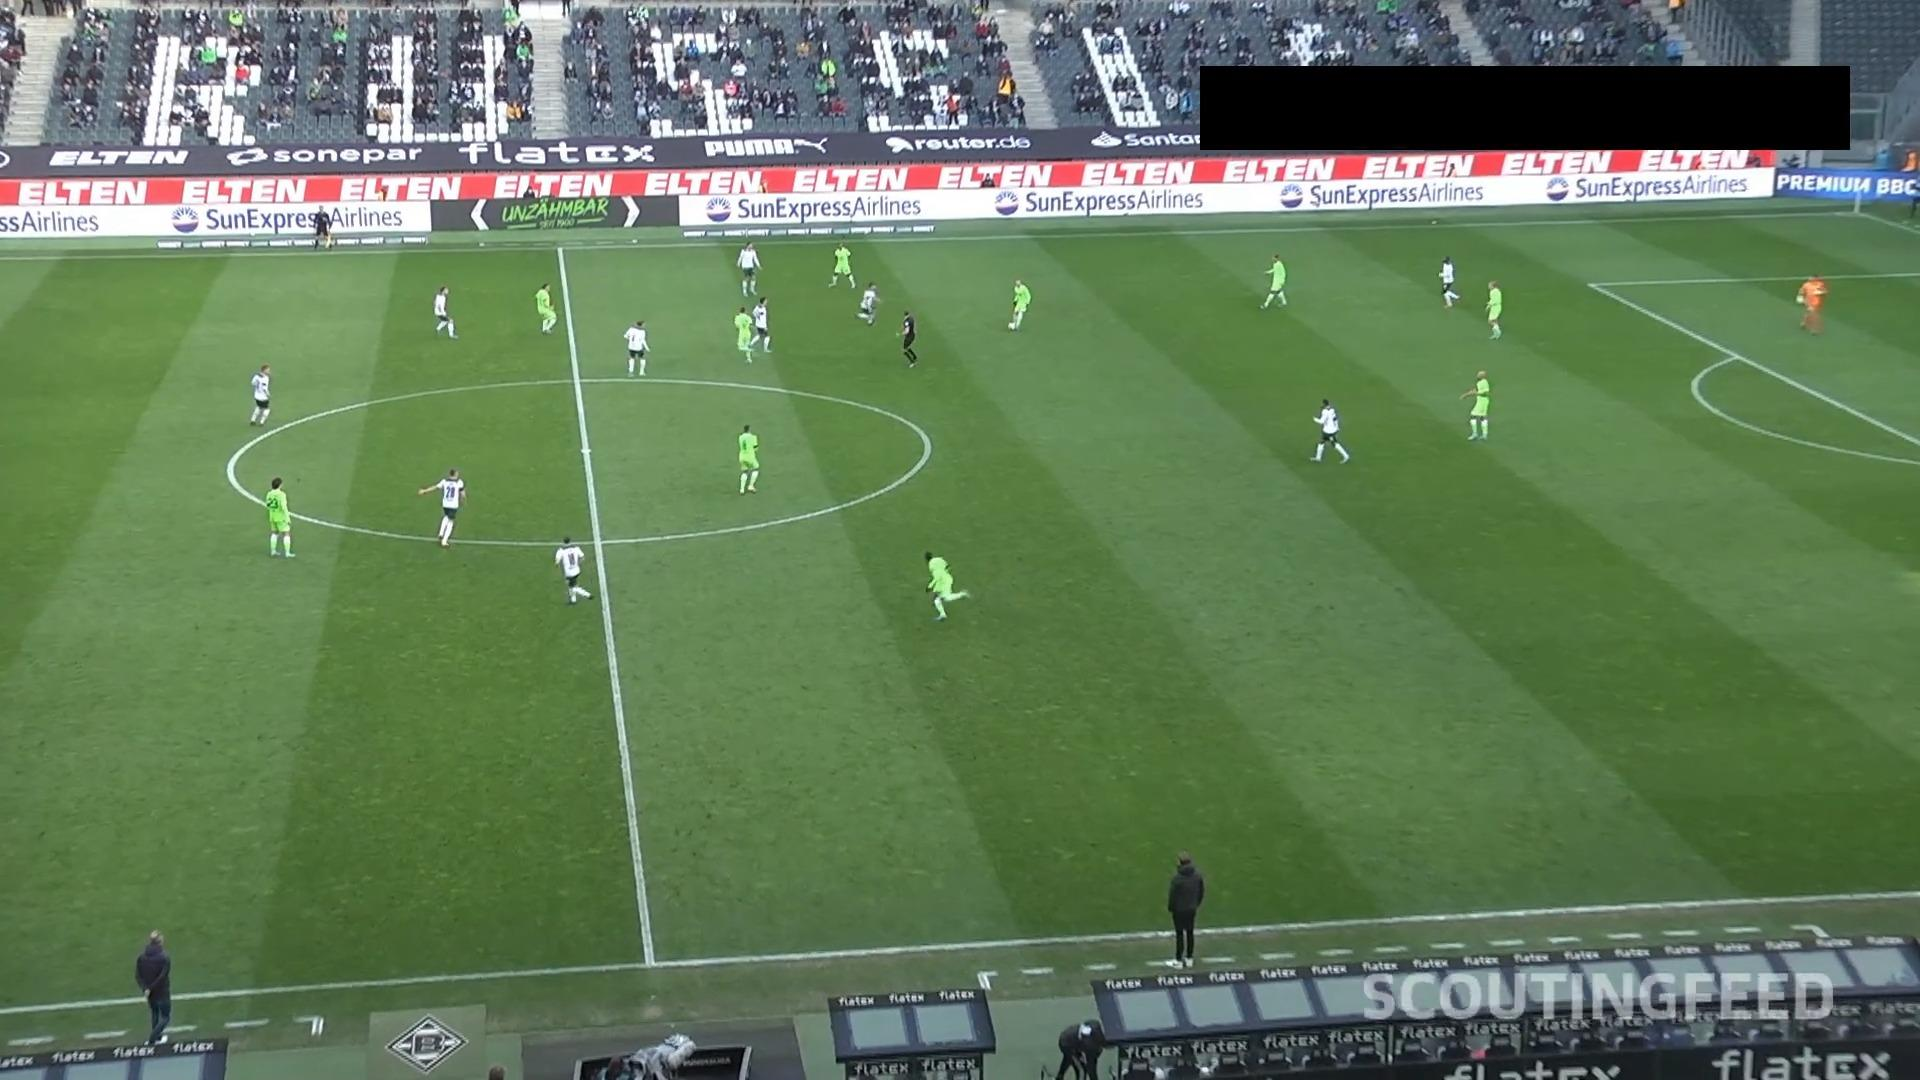coach: (1166, 850, 1204, 968), (134, 927, 172, 1044)
player: (417, 467, 467, 547), (921, 549, 969, 620), (1307, 397, 1350, 464), (553, 535, 591, 604), (264, 476, 295, 557), (1458, 368, 1490, 440), (1795, 272, 1827, 333), (736, 423, 759, 494), (735, 239, 762, 297), (1260, 252, 1287, 309), (248, 363, 272, 426), (622, 319, 649, 375), (732, 305, 756, 363), (432, 285, 457, 339), (827, 240, 855, 288), (749, 294, 771, 353), (1007, 277, 1030, 331), (1437, 255, 1460, 308), (534, 281, 557, 333), (1484, 278, 1502, 339), (856, 281, 880, 326), (1794, 279, 1809, 329)
referee: (310, 204, 334, 256), (895, 310, 917, 366)
